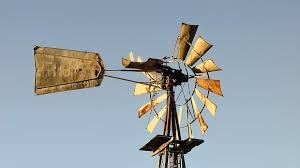faulty: (121, 19, 224, 124)
